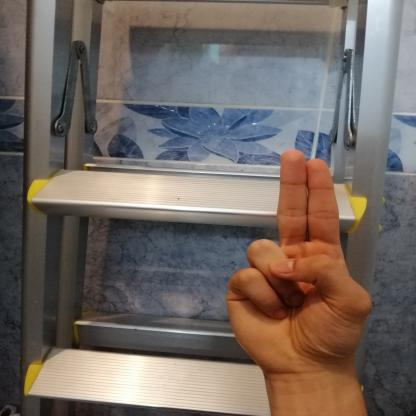TA: (215, 143, 382, 386)
